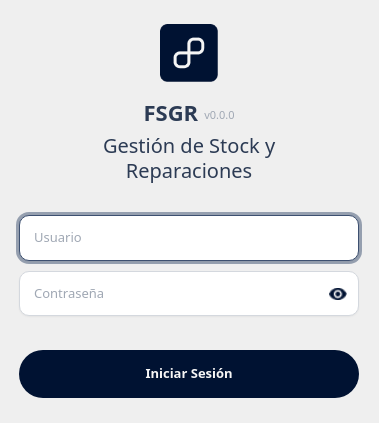
Test: LoginPage › 401 muestra "Usuario o contraseña incorrectos." y no guarda sesión
In the field with placeholder "Usuario": [189, 238] box x1=19 y1=215 x2=359 y2=261, type "tecnico_f"
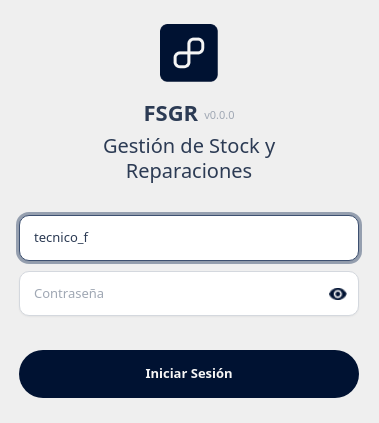
In the password field with placeholder "Contraseña": [189, 294] box x1=19 y1=271 x2=359 y2=316, type "mala"
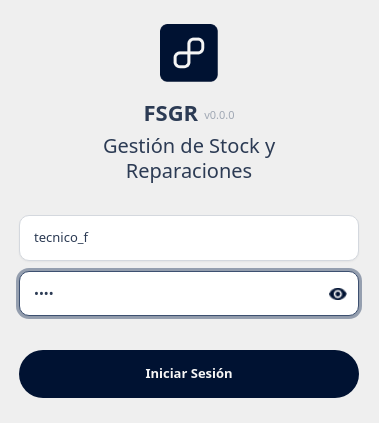
Click the button "Iniciar Sesión": [189, 374] box x1=19 y1=350 x2=359 y2=398
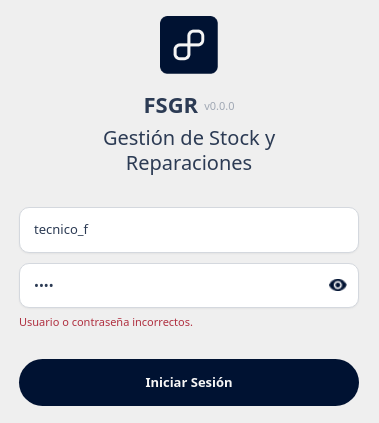
Expected: the text "Usuario o contraseña incorrectos." is shown, x1=19 y1=314 x2=193 y2=329
